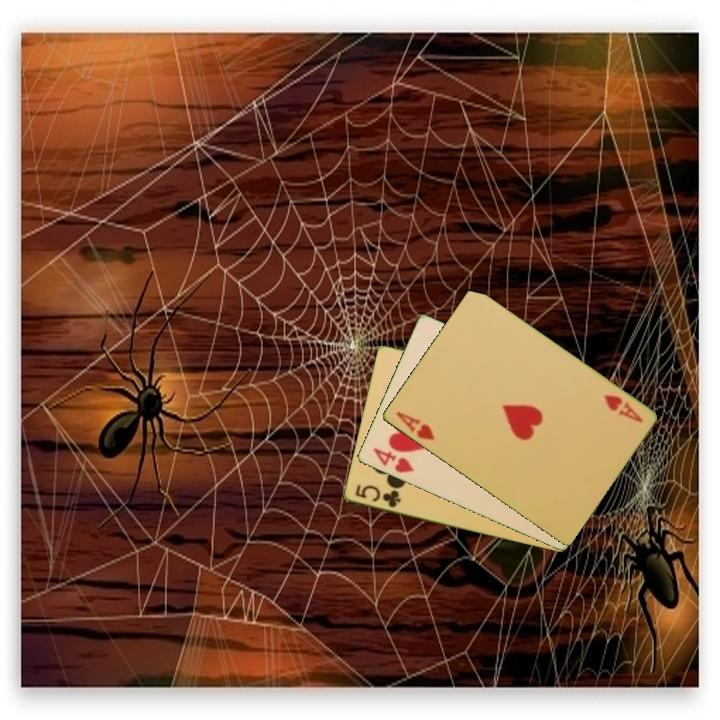4h: (369, 444, 417, 476)
5c: (351, 482, 403, 511)
Ah: (599, 391, 646, 426), (392, 408, 437, 443)
